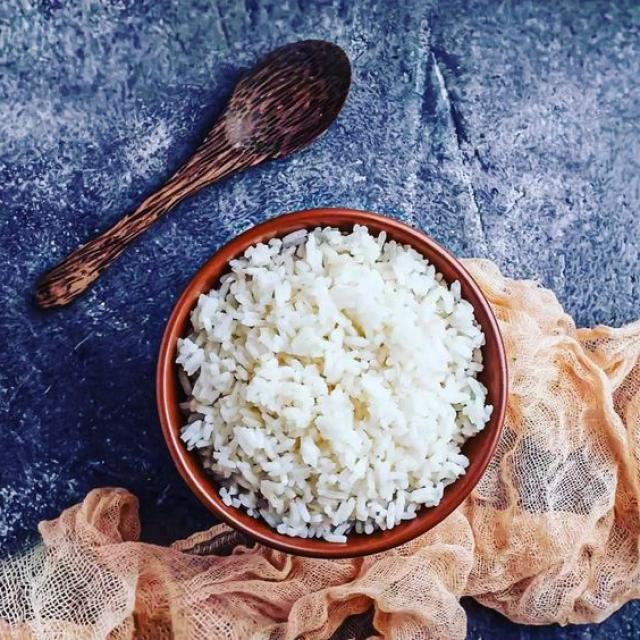nasi_putih: (166, 230, 500, 544)
